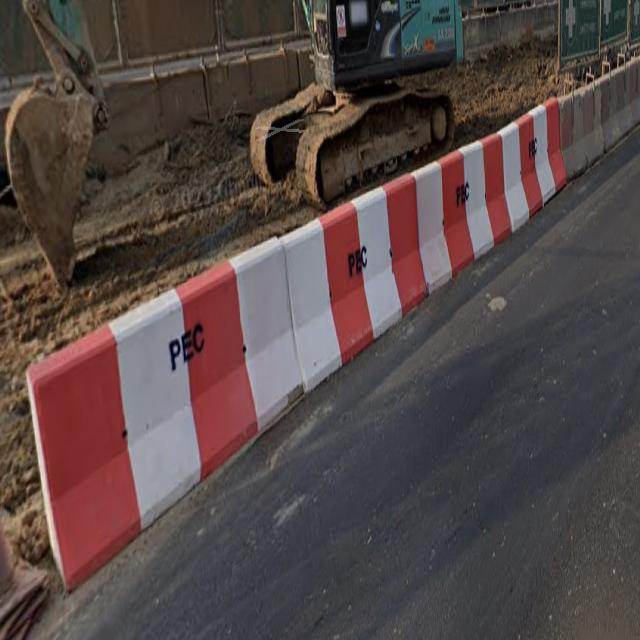fallen_object: (7, 239, 302, 589), (220, 142, 450, 377), (397, 77, 572, 263), (507, 26, 640, 180)
